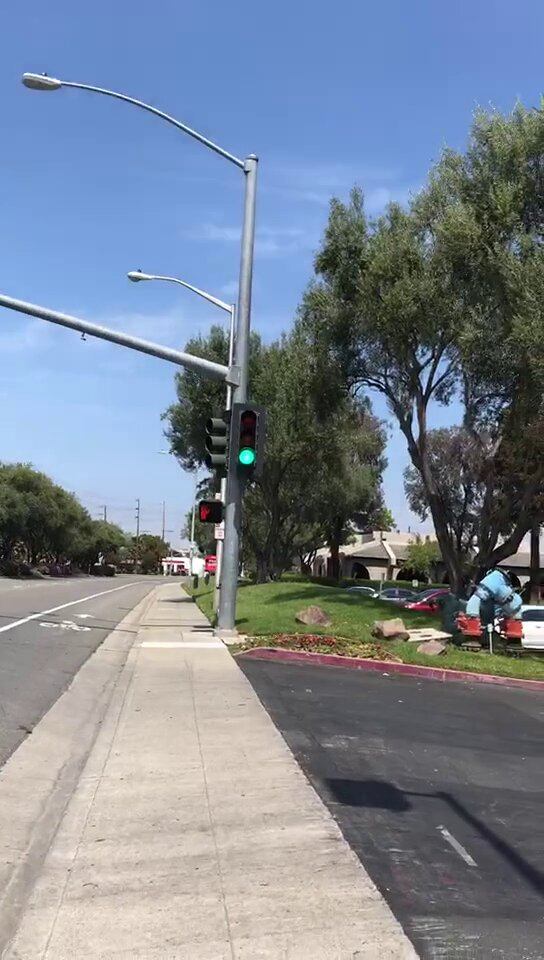green_light: (233, 403, 264, 469)
